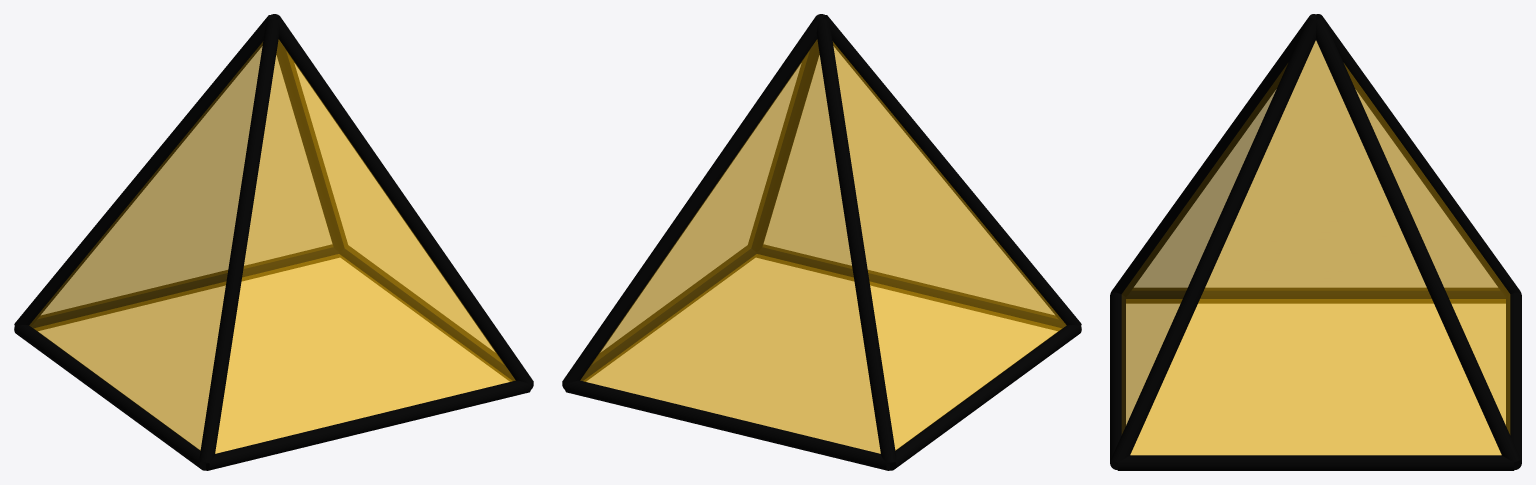
The model's file is real pyramid.fbx.
3 renders of one model, left to right at view 1: azimuth 30°, elevation 25°; view 2: azimuth 150°, elevation 25°; view 3: azimuth 270°, elevation 25°, orthographic. The views are drawn at different scales.
Visible parts, largest first — view 1: ReferencePyramid, PyramidEdge.006, PyramidEdge.007, PyramidEdge.005, PyramidEdge.002, PyramidEdge, PyramidEdge.001, PyramidEdge.004, PyramidEdge.003; view 2: ReferencePyramid, PyramidEdge.005, PyramidEdge.004, PyramidEdge.006, PyramidEdge, PyramidEdge.002, PyramidEdge.001, PyramidEdge.007, PyramidEdge.003; view 3: ReferencePyramid, PyramidEdge.004, PyramidEdge.007, PyramidEdge.003, PyramidEdge.001, PyramidEdge.005, PyramidEdge.006, PyramidEdge, PyramidEdge.002.
Boxes of the visible parts, x1,y1,x2,y2 form: ReferencePyramid: (29, 40, 515, 453); PyramidEdge.006: (199, 18, 279, 463); PyramidEdge.007: (275, 16, 533, 384); PyramidEdge.005: (14, 15, 272, 326); PyramidEdge.002: (206, 380, 530, 470); PyramidEdge: (31, 244, 339, 330); PyramidEdge.001: (14, 325, 205, 470); PyramidEdge.004: (271, 14, 347, 251); PyramidEdge.003: (339, 245, 533, 389); ReferencePyramid: (580, 40, 1066, 453); PyramidEdge.005: (816, 18, 896, 463); PyramidEdge.004: (562, 16, 820, 384); PyramidEdge.006: (823, 15, 1081, 326); PyramidEdge: (565, 380, 889, 470); PyramidEdge.002: (756, 244, 1064, 330); PyramidEdge.001: (890, 325, 1081, 470); PyramidEdge.007: (748, 14, 824, 251); PyramidEdge.003: (562, 245, 756, 389); ReferencePyramid: (1122, 41, 1509, 455); PyramidEdge.004: (1316, 17, 1520, 462); PyramidEdge.007: (1111, 17, 1315, 462); PyramidEdge.003: (1118, 455, 1513, 470); PyramidEdge.001: (1126, 288, 1505, 303); PyramidEdge.005: (1316, 14, 1520, 296); PyramidEdge.006: (1111, 14, 1315, 296); PyramidEdge: (1506, 292, 1521, 470); PyramidEdge.002: (1110, 292, 1125, 470).
Size of the model in its own units: 208 by 206 by 208.
